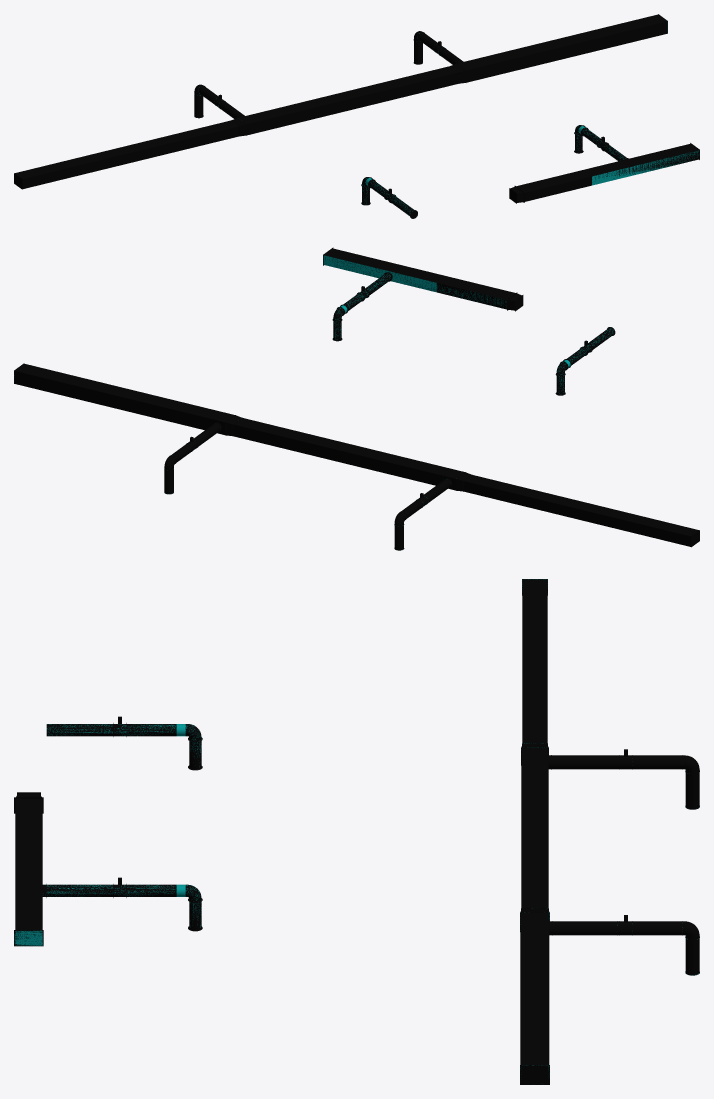
The model's file is GCC-AAV-13220-30.nwd(24).fbx.
3 views of the same model, one above another, from view 1: azimuth 30°, elevation 25°; view 2: azimuth 150°, elevation 25°; view 3: azimuth 270°, elevation 25° (orthographic). The views are drawn at different scales.
Parts seen in each view (by area): view 1: STRT 17 of BRANCH /794-13220-ST-001-AHU-002A-SAA-0001-001, STRT 18 of BRANCH /794-13220-ST-001-AHU-002A-SAA-0001-001, STRT 19 of BRANCH /794-13220-ST-001-AHU-002A-SAA-0001-001, STRT 13 of BRANCH /794-13220-ST-001-EF-002A-EA-0001-003, Параллелепипед; view 2: STRT 17 of BRANCH /794-13220-ST-001-AHU-002A-SAA-0001-001, STRT 18 of BRANCH /794-13220-ST-001-AHU-002A-SAA-0001-001, STRT 19 of BRANCH /794-13220-ST-001-AHU-002A-SAA-0001-001, STRT 13 of BRANCH /794-13220-ST-001-EF-002A-EA-0001-003, Параллелепипед; view 3: STRT 17 of BRANCH /794-13220-ST-001-AHU-002A-SAA-0001-001, STRT 18 of BRANCH /794-13220-ST-001-AHU-002A-SAA-0001-001, STRT 19 of BRANCH /794-13220-ST-001-AHU-002A-SAA-0001-001, STRT 13 of BRANCH /794-13220-ST-001-EF-002A-EA-0001-003, STRT 1 of BRANCH /794-13220-ST-001-AHU-002A-SAA-0001-012, STRT 1 of BRANCH /794-13220-ST-001-AHU-002A-SAA-0001-011, STRT 1 of BRANCH /794-13220-ST-001-EF-002A-EA-0001-024, STRT 1 of BRANCH /794-13220-ST-001-EF-002A-EA-0001-025.
Boxes of the visible parts, x1,y1,x2,y2 form: STRT 17 of BRANCH /794-13220-ST-001-AHU-002A-SAA-0001-001: (457, 14, 667, 82); STRT 18 of BRANCH /794-13220-ST-001-AHU-002A-SAA-0001-001: (238, 66, 459, 135); STRT 19 of BRANCH /794-13220-ST-001-AHU-002A-SAA-0001-001: (14, 120, 239, 189); STRT 13 of BRANCH /794-13220-ST-001-EF-002A-EA-0001-003: (516, 143, 699, 202); Параллелепипед: (592, 150, 698, 185); STRT 17 of BRANCH /794-13220-ST-001-AHU-002A-SAA-0001-001: (14, 363, 234, 435); STRT 18 of BRANCH /794-13220-ST-001-AHU-002A-SAA-0001-001: (233, 418, 464, 490); STRT 19 of BRANCH /794-13220-ST-001-AHU-002A-SAA-0001-001: (463, 475, 699, 547); STRT 13 of BRANCH /794-13220-ST-001-EF-002A-EA-0001-003: (323, 247, 515, 310); Параллелепипед: (323, 255, 436, 292); STRT 17 of BRANCH /794-13220-ST-001-AHU-002A-SAA-0001-001: (520, 912, 549, 1084); STRT 18 of BRANCH /794-13220-ST-001-AHU-002A-SAA-0001-001: (521, 747, 548, 908); STRT 19 of BRANCH /794-13220-ST-001-AHU-002A-SAA-0001-001: (522, 579, 547, 743); STRT 13 of BRANCH /794-13220-ST-001-EF-002A-EA-0001-003: (14, 797, 43, 946); STRT 1 of BRANCH /794-13220-ST-001-AHU-002A-SAA-0001-012: (551, 755, 618, 769); STRT 1 of BRANCH /794-13220-ST-001-AHU-002A-SAA-0001-011: (552, 921, 617, 935); STRT 1 of BRANCH /794-13220-ST-001-EF-002A-EA-0001-024: (46, 724, 112, 736); STRT 1 of BRANCH /794-13220-ST-001-EF-002A-EA-0001-025: (46, 884, 112, 896).
Bounding box in the file's own units: 1157 × 104 × 688.
